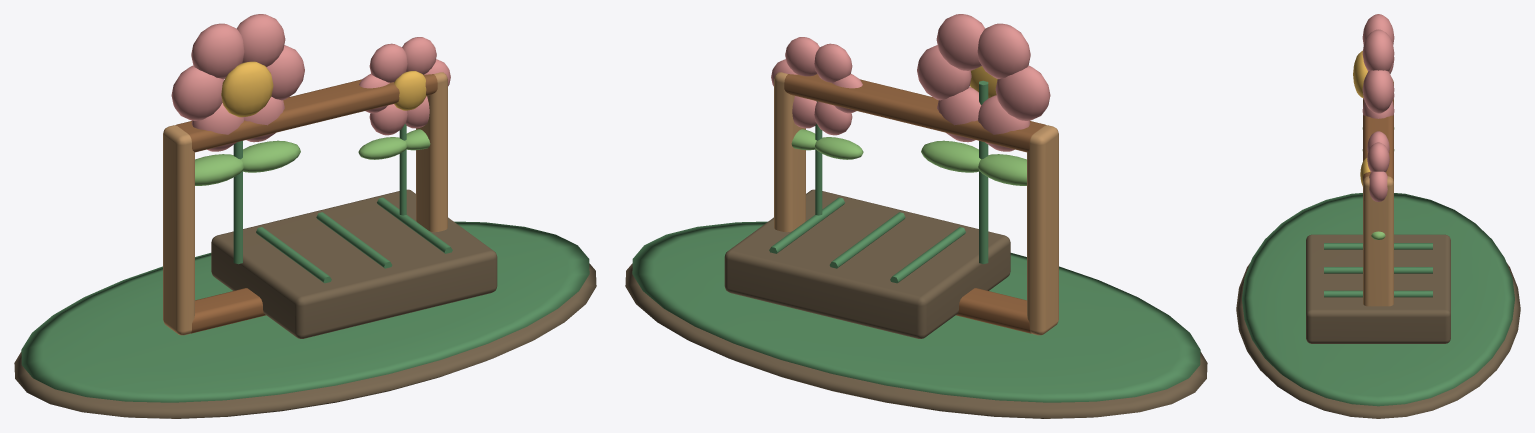
Rendered from flower-garden.glb.
3 renders of one model, left to right at view 1: azimuth 30°, elevation 25°; view 2: azimuth 150°, elevation 25°; view 3: azimuth 270°, elevation 25°, orthographic. The views are drawn at different scales.
Parts seen in each view (by area): view 1: flower-garden_surface_01, flower-garden_surface_00, flower-garden_surface_03, flower-garden_surface_06, flower-garden_surface_05, flower-garden_surface_02, flower-garden_surface_04; view 2: flower-garden_surface_01, flower-garden_surface_00, flower-garden_surface_03, flower-garden_surface_06, flower-garden_surface_05, flower-garden_surface_02; view 3: flower-garden_surface_01, flower-garden_surface_00, flower-garden_surface_03, flower-garden_surface_06, flower-garden_surface_05, flower-garden_surface_04.
Boxes of the visible parts, left/top/right/bottom form: flower-garden_surface_01: left=21, top=124, right=589, bottom=402; flower-garden_surface_00: left=14, top=189, right=596, bottom=418; flower-garden_surface_03: left=171, top=14, right=450, bottom=151; flower-garden_surface_06: left=163, top=72, right=447, bottom=335; flower-garden_surface_05: left=175, top=74, right=437, bottom=333; flower-garden_surface_02: left=195, top=129, right=430, bottom=185; flower-garden_surface_04: left=221, top=61, right=426, bottom=117; flower-garden_surface_01: left=632, top=80, right=1200, bottom=402; flower-garden_surface_00: left=625, top=189, right=1207, bottom=418; flower-garden_surface_03: left=771, top=14, right=1050, bottom=151; flower-garden_surface_06: left=774, top=72, right=1058, bottom=335; flower-garden_surface_05: left=784, top=74, right=1046, bottom=333; flower-garden_surface_02: left=791, top=129, right=1026, bottom=185; flower-garden_surface_01: left=1242, top=193, right=1514, bottom=406; flower-garden_surface_00: left=1236, top=234, right=1520, bottom=418; flower-garden_surface_03: left=1362, top=14, right=1394, bottom=201; flower-garden_surface_06: left=1363, top=79, right=1393, bottom=306; flower-garden_surface_05: left=1363, top=85, right=1393, bottom=181; flower-garden_surface_04: left=1353, top=50, right=1370, bottom=186.
Bounding box in the file's own units: 4.56 × 2.64 × 2.5.
